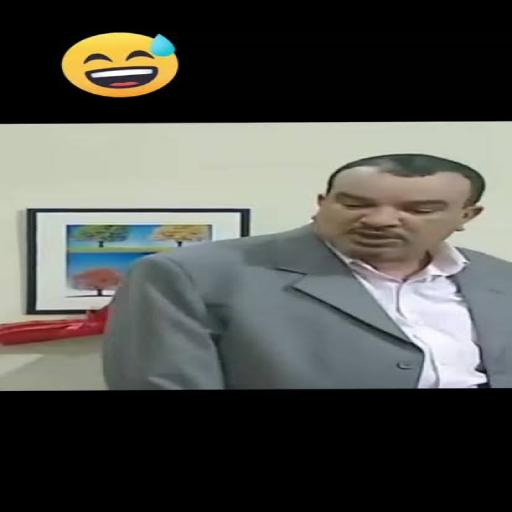slimane: (312, 154, 485, 267)
